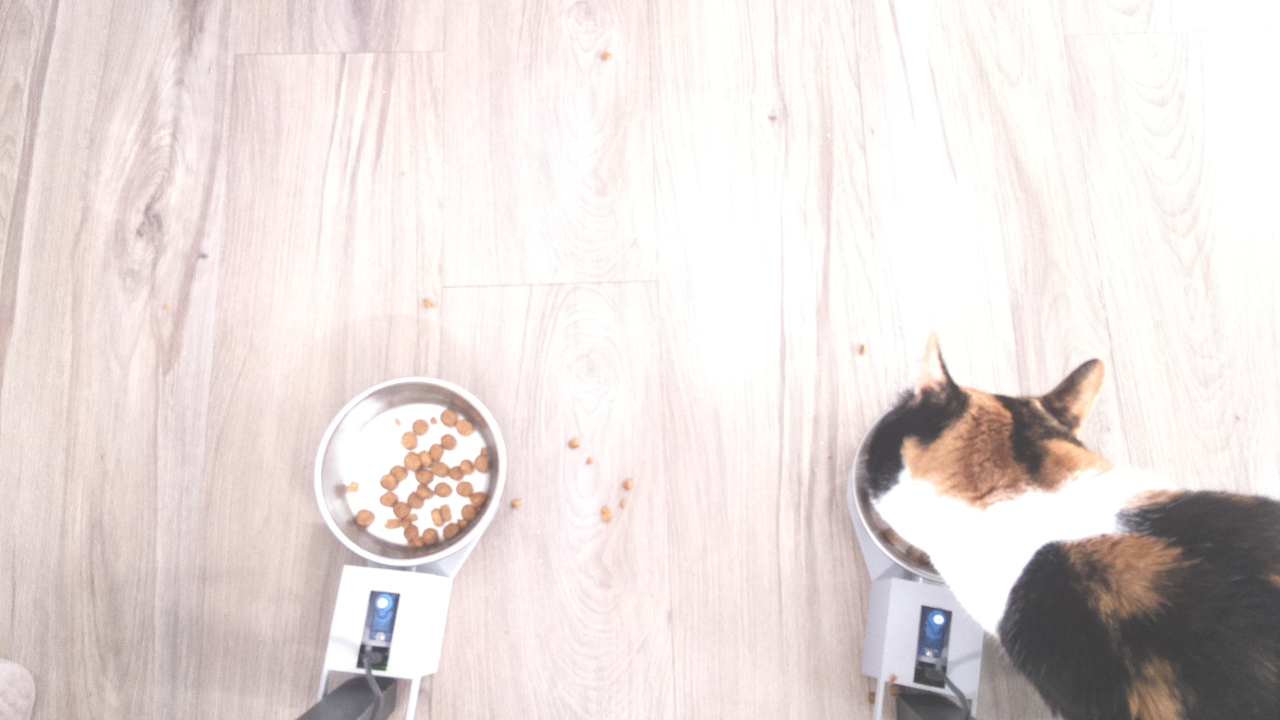bella_eating: (848, 322, 1150, 597)
open_bowl: (307, 375, 512, 569)
